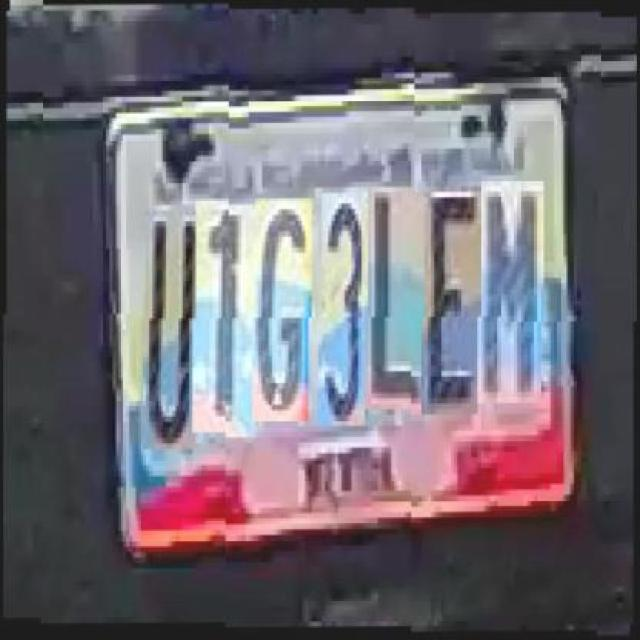1: (192, 199, 255, 433)
3: (318, 188, 365, 422)
e: (420, 177, 478, 405)
g: (252, 193, 308, 416)
l: (364, 182, 428, 404)
m: (478, 170, 540, 393)
u: (142, 210, 196, 450)
